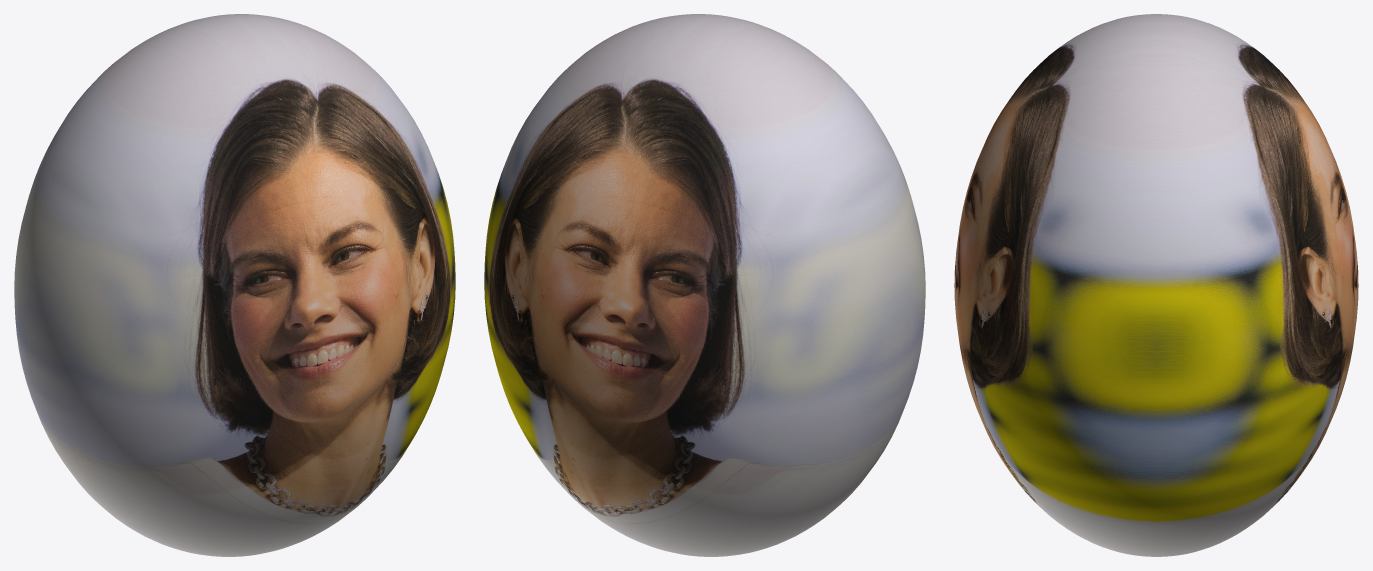
The model's file is lauren-cohan.glb.
3 views of the same model, side by side, from view 1: azimuth 30°, elevation 25°; view 2: azimuth 150°, elevation 25°; view 3: azimuth 270°, elevation 25° (orthographic).
Visible parts, largest first — view 1: head; view 2: head; view 3: head.
Boxes of the visible parts, x1,y1,x2,y2 form: head: (14,14,455,556); head: (484,14,925,556); head: (954,14,1358,556).
Bounding box in the file's own units: 1.6 × 2 × 1.44.
1 material, 1 textured.
